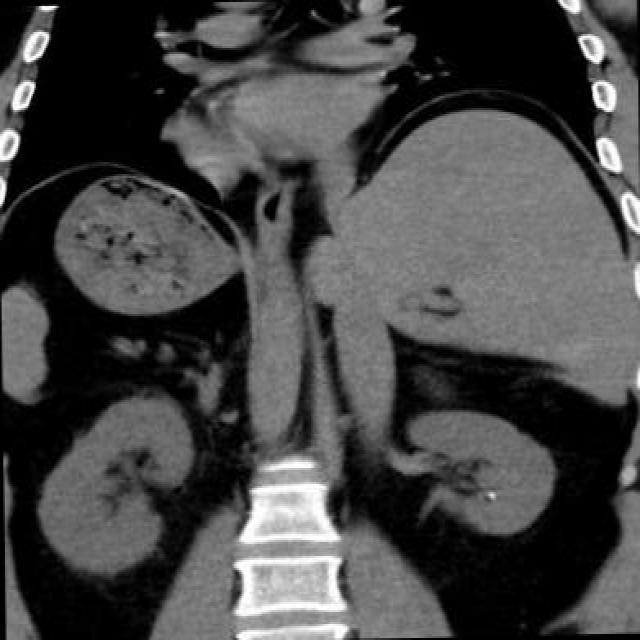Tas_Var: (484, 487, 496, 505)
